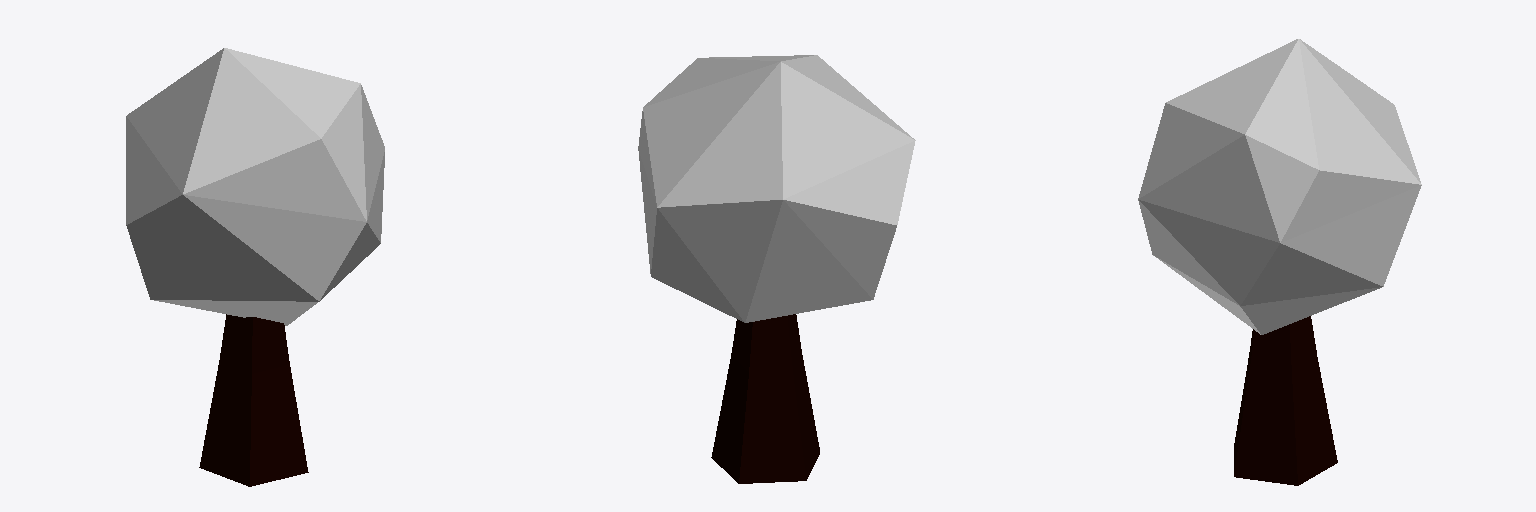
The model's file is boomS.obj.
3 views of the same model, side by side, from view 1: azimuth 30°, elevation 25°; view 2: azimuth 150°, elevation 25°; view 3: azimuth 270°, elevation 25° (orthographic).
Visible parts, largest first — view 1: Icosphere, Cylinder_Cylinder.002; view 2: Icosphere, Cylinder_Cylinder.002; view 3: Icosphere, Cylinder_Cylinder.002.
Part boxes in pixels (bbox=[...]): Icosphere: bbox=[126, 48, 384, 325]; Cylinder_Cylinder.002: bbox=[199, 314, 308, 486]; Icosphere: bbox=[638, 55, 915, 322]; Cylinder_Cylinder.002: bbox=[711, 314, 819, 483]; Icosphere: bbox=[1138, 39, 1421, 334]; Cylinder_Cylinder.002: bbox=[1234, 316, 1337, 485].
Bounding box in the file's own units: 3.44 × 5.25 × 3.26.